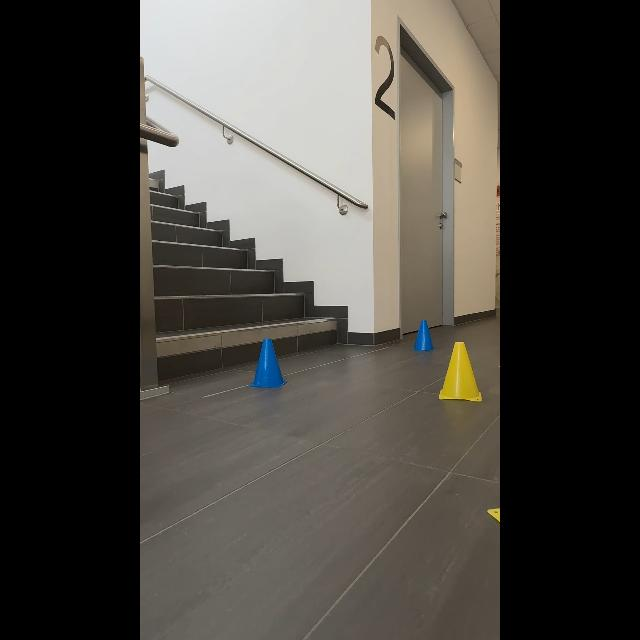blue_cone: (248, 334, 288, 394), (409, 313, 437, 352)
yellow_cone: (434, 338, 486, 404)
